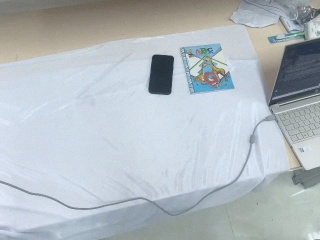book: (179, 43, 235, 95)
phone: (148, 54, 174, 95)
